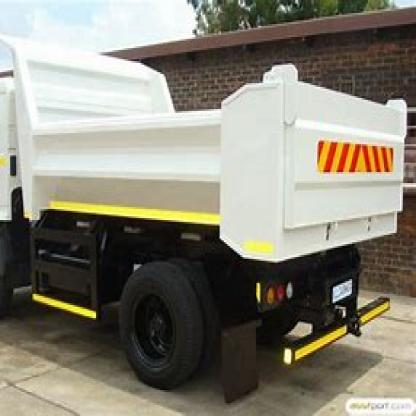dump_truck: (3, 28, 413, 390)
